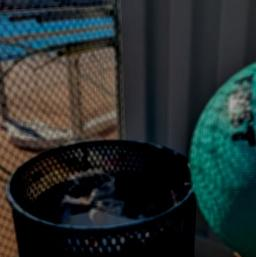algae: (188, 47, 256, 257)
